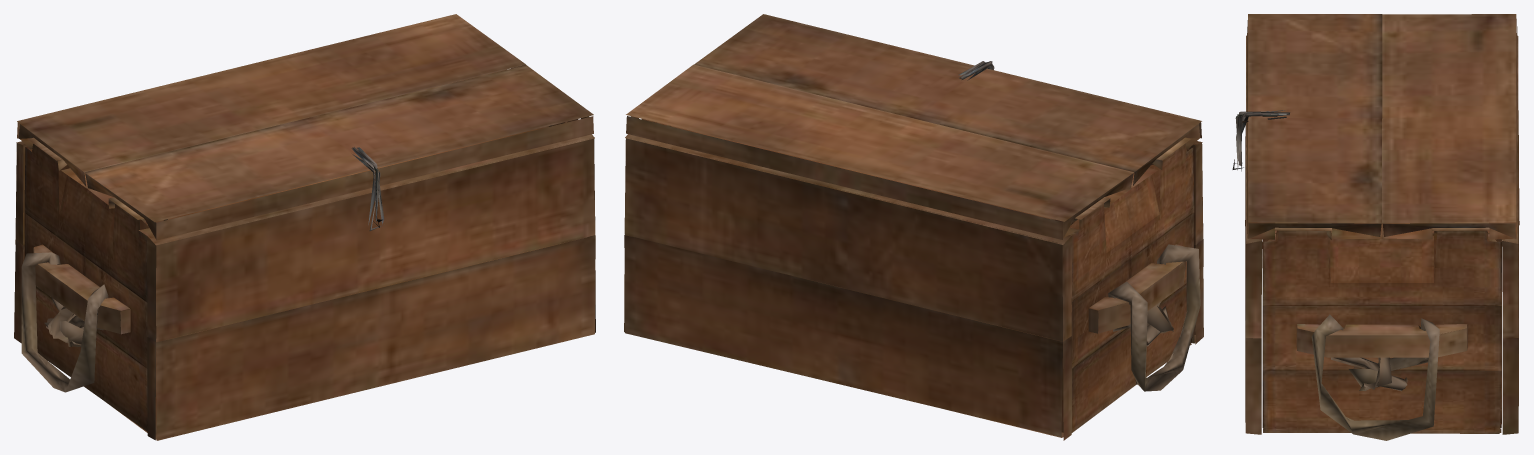
The model's file is wooden_crate_01.glb.
3 renders of one model, left to right at view 1: azimuth 30°, elevation 25°; view 2: azimuth 150°, elevation 25°; view 3: azimuth 270°, elevation 25°, orthographic. The views are drawn at different scales.
Visible parts, largest first — view 1: wooden_crate_01, wooden_crate_01_lid, wooden_crate_01_latch; view 2: wooden_crate_01, wooden_crate_01_lid; view 3: wooden_crate_01_lid, wooden_crate_01, wooden_crate_01_latch.
Boxes of the visible parts, x1=… form: wooden_crate_01: x1=14, y1=119, x2=595, y2=440; wooden_crate_01_lid: x1=17, y1=14, x2=593, y2=240; wooden_crate_01_latch: x1=351, y1=147, x2=384, y2=230; wooden_crate_01: x1=624, y1=119, x2=1203, y2=440; wooden_crate_01_lid: x1=626, y1=14, x2=1201, y2=239; wooden_crate_01_lid: x1=1247, y1=14, x2=1517, y2=239; wooden_crate_01: x1=1232, y1=35, x2=1519, y2=440; wooden_crate_01_latch: x1=1235, y1=110, x2=1290, y2=171.
Bounding box in the file's own units: 0.8222 × 0.3437 × 0.4064.
1 material, 1 textured.
